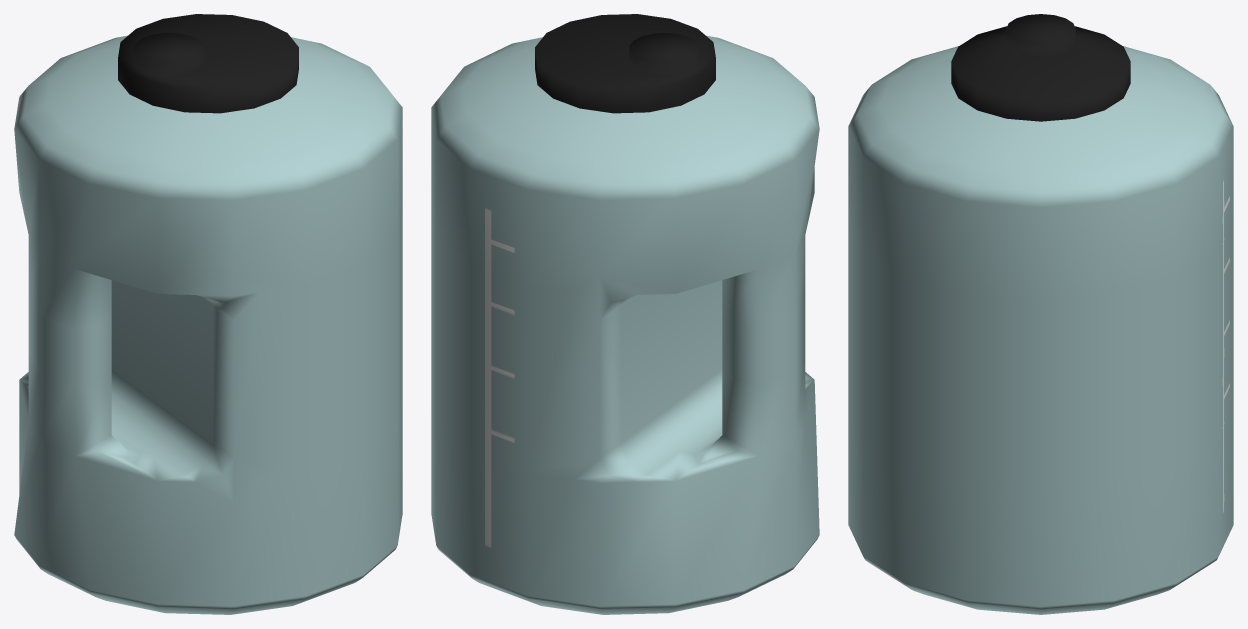
The model's file is waterJug.fbx.
3 views of the same model, side by side, from view 1: azimuth 30°, elevation 25°; view 2: azimuth 150°, elevation 25°; view 3: azimuth 270°, elevation 25° (orthographic).
Visible parts, largest first — view 1: jug; view 2: jug; view 3: jug.
Boxes of the visible parts, x1,y1,x2,y2 form: jug: [14, 14, 402, 614]; jug: [431, 14, 819, 614]; jug: [848, 14, 1233, 614].
Size of the model in its own units: 0.2516 by 0.3609 by 0.2516.
